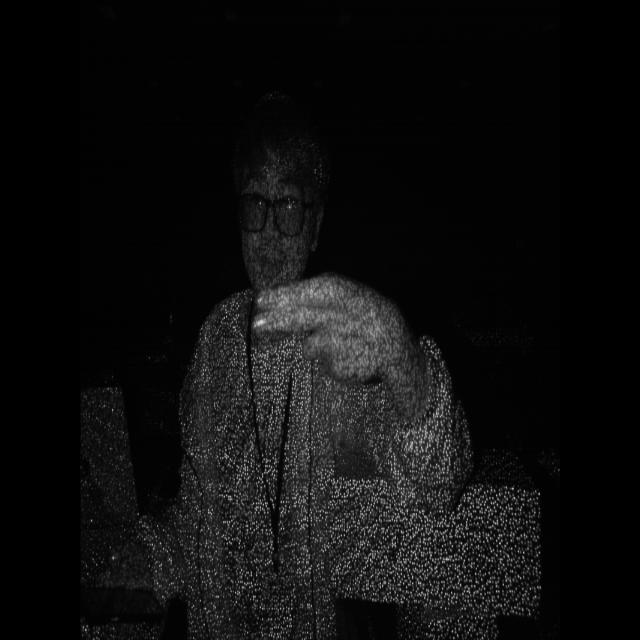H: (246, 265, 417, 410)
